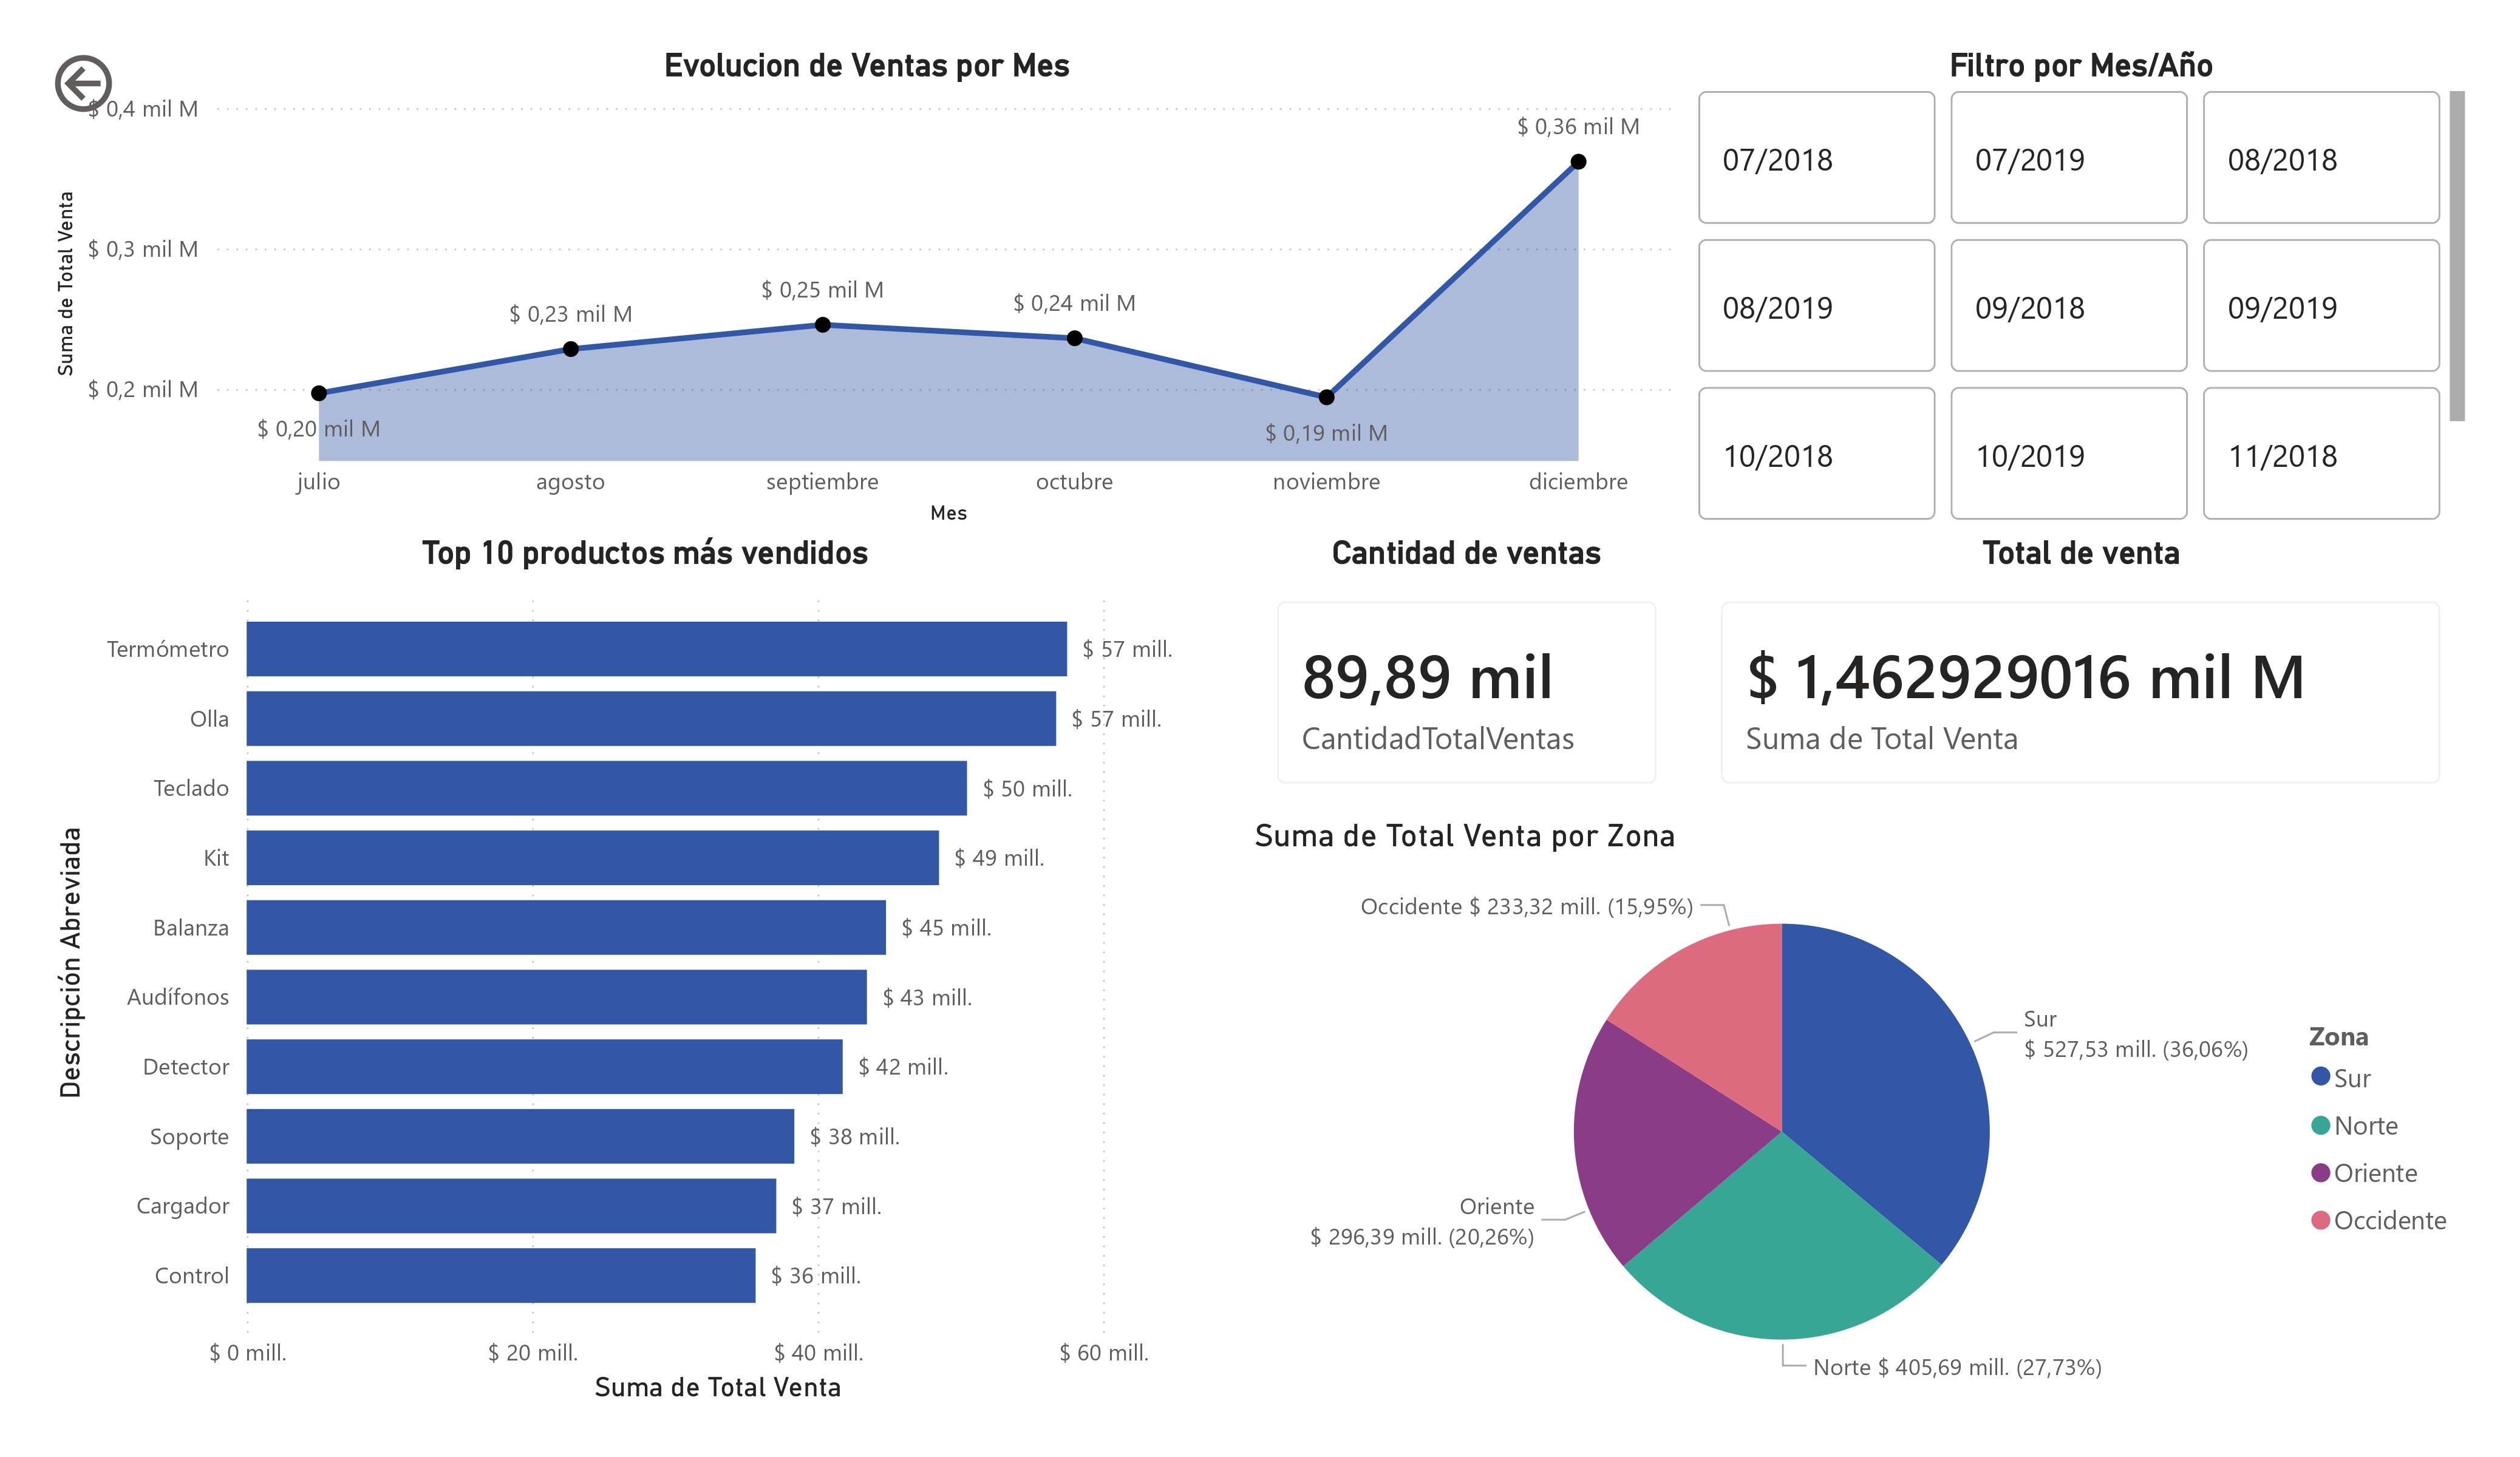

Layout of this report page (visuals, bound fields, positions):
{"tool":"powerbi","page":{"name":"Página 1","canvas":[1280,720],"ordinal":0},"visuals":[{"type":"cardVisual","title":"Total de venta","fields":{"Data":["Sum(Ventas.Total Venta)"]},"box":[866.2,256.6,413.8,149.7],"z":0},{"type":"cardVisual","title":"Cantidad de ventas","fields":{"Data":["Medidas.CantidadTotalVentas"]},"box":[632,256.6,234.2,149.7],"z":1000},{"type":"lineChart","title":"Evolucion de Ventas por Mes","fields":{"Category":["Ventas.Fecha compra.Variación.Jerarquía de fechas.Mes"],"Y":["Sum(Ventas.Total Venta)"]},"box":[0,0,866.2,256.8],"z":2000},{"type":"actionButton","box":[0,0,100,40],"z":3000},{"type":"clusteredBarChart","title":"Top 10 productos más vendidos","fields":{"Category":["Productos.Descripción Abreviada "],"Y":["Sum(Ventas.Total Venta)"]},"box":[0,256.8,632.2,462.7],"z":4000},{"type":"pieChart","fields":{"Category":["Vendedores.Zona"],"Y":["Sum(Ventas.Total Venta)"]},"box":[632,406.3,648,313.3],"z":5000},{"type":"advancedSlicerVisual","title":"Filtro por Mes/Año","fields":{"Values":["Ventas.MesAño"]},"box":[866,0,414,257],"z":6000}]}

Visuals, with their boxes on the page's 1280x720 design canvas (x1, y1, x2, y2). These are canvas units, not pixel positions in the 2520x1457 screenshot, which may show the page scaled, cropped or inside an application window:
"Total de venta" cardVisual: [x1=866, y1=257, x2=1280, y2=406]
"Cantidad de ventas" cardVisual: [x1=632, y1=257, x2=866, y2=406]
"Evolucion de Ventas por Mes" lineChart: [x1=0, y1=0, x2=866, y2=257]
actionButton: [x1=0, y1=0, x2=100, y2=40]
"Top 10 productos más vendidos" clusteredBarChart: [x1=0, y1=257, x2=632, y2=720]
pieChart - Vendedores.Zona x Sum(Ventas.Total Venta): [x1=632, y1=406, x2=1280, y2=720]
"Filtro por Mes/Año" advancedSlicerVisual: [x1=866, y1=0, x2=1280, y2=257]
